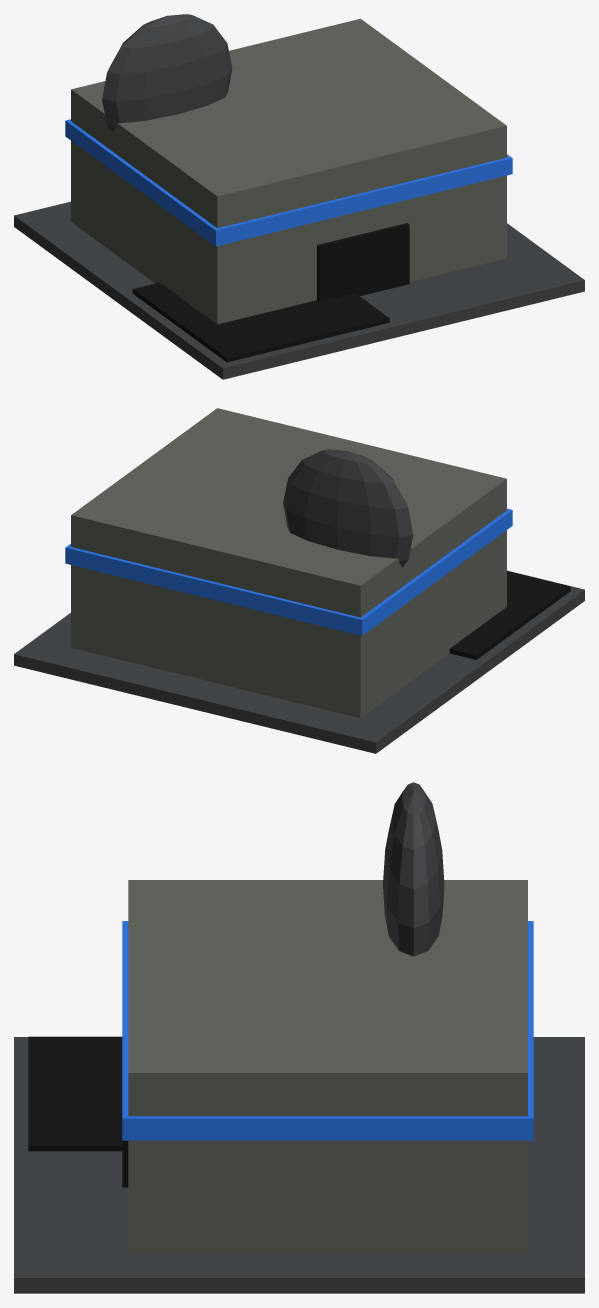
File: eu_drone_center.glb
3 views of the same model, one above another, from view 1: azimuth 30°, elevation 25°; view 2: azimuth 150°, elevation 25°; view 3: azimuth 270°, elevation 25° (orthographic). The views are drawn at different scales.
Visible parts, largest first — view 1: main, base, dish_big, pad, team_band, door; view 2: main, base, dish_big, team_band, pad; view 3: main, base, team_band, pad, dish_big.
Part boxes in pixels (<box>): main: <box>71,18,506,324</box>; base: <box>14,201,584,379</box>; dish_big: <box>102,14,232,131</box>; pad: <box>132,282,389,362</box>; team_band: <box>65,119,512,246</box>; door: <box>317,223,409,301</box>; main: <box>71,408,506,718</box>; base: <box>14,570,584,753</box>; dish_big: <box>283,449,413,567</box>; team_band: <box>65,508,512,635</box>; pad: <box>449,571,570,659</box>; main: <box>128,880,527,1253</box>; base: <box>14,1037,584,1293</box>; team_band: <box>122,921,533,1140</box>; pad: <box>28,1036,122,1151</box>; dish_big: <box>383,782,444,956</box>.
Bounding box in the file's own units: 10 × 6.2 × 10.
